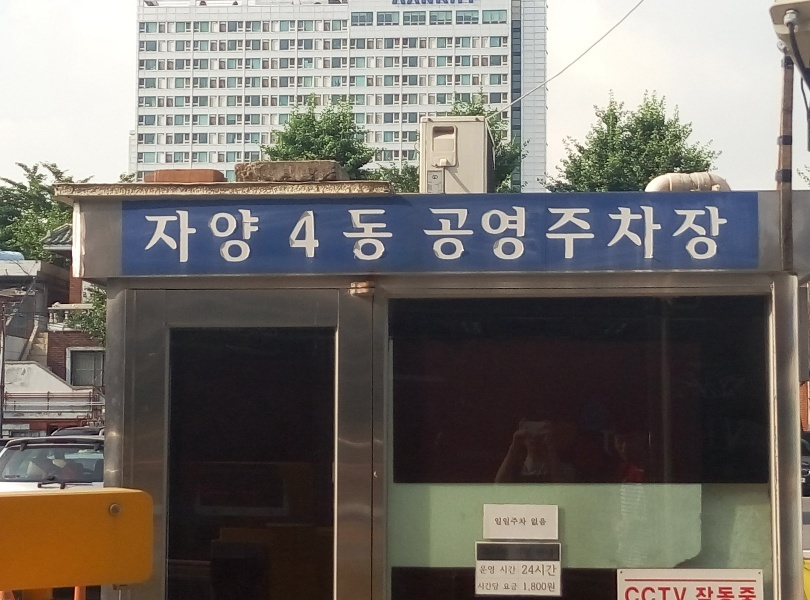text: (433, 207, 448, 262), (449, 207, 464, 262), (465, 207, 480, 262), (481, 207, 496, 262), (497, 207, 512, 262), (513, 207, 528, 262), (529, 207, 544, 262), (545, 207, 560, 262), (561, 207, 576, 262), (577, 207, 592, 262), (593, 207, 608, 262), (609, 207, 624, 262), (625, 207, 640, 262), (641, 207, 656, 262), (657, 207, 672, 262), (673, 207, 688, 262), (689, 207, 704, 262), (705, 207, 720, 262), (145, 209, 160, 263), (161, 209, 176, 263), (177, 209, 192, 263), (193, 209, 208, 263), (209, 209, 224, 263), (225, 209, 240, 263), (241, 209, 256, 263), (257, 209, 272, 263), (273, 209, 288, 263), (289, 209, 304, 263), (305, 209, 320, 263), (321, 209, 336, 263), (337, 209, 352, 263), (353, 209, 368, 263), (369, 209, 384, 263), (420, 207, 432, 262), (385, 209, 397, 263), (721, 207, 730, 262), (529, 565, 544, 577), (625, 588, 640, 600), (641, 588, 656, 600), (657, 588, 672, 600), (673, 588, 688, 600), (705, 588, 720, 600), (721, 588, 736, 600), (737, 588, 752, 600), (529, 582, 544, 592), (545, 565, 557, 577), (481, 565, 494, 575), (497, 518, 512, 526), (481, 582, 496, 590), (513, 518, 527, 526), (530, 518, 544, 526), (502, 565, 512, 575), (545, 582, 555, 592), (696, 588, 704, 600), (521, 565, 528, 577), (504, 583, 512, 590), (401, 1, 416, 4), (417, 1, 432, 4), (433, 1, 448, 4), (449, 1, 464, 4), (524, 582, 528, 592), (753, 588, 756, 600), (513, 583, 518, 590), (513, 565, 516, 575), (465, 1, 474, 4), (393, 1, 400, 4), (494, 518, 496, 526), (497, 582, 499, 590), (479, 565, 480, 575), (545, 518, 546, 526)
